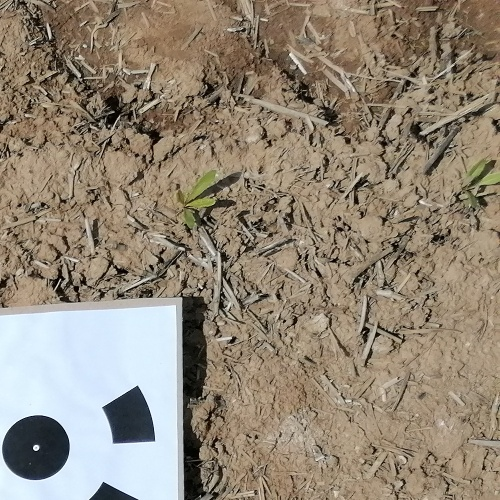beet: (174, 170, 216, 227), (458, 158, 500, 210)
